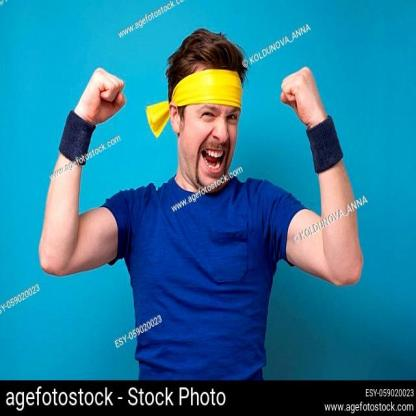fist: (61, 60, 138, 131), (265, 65, 335, 128)
